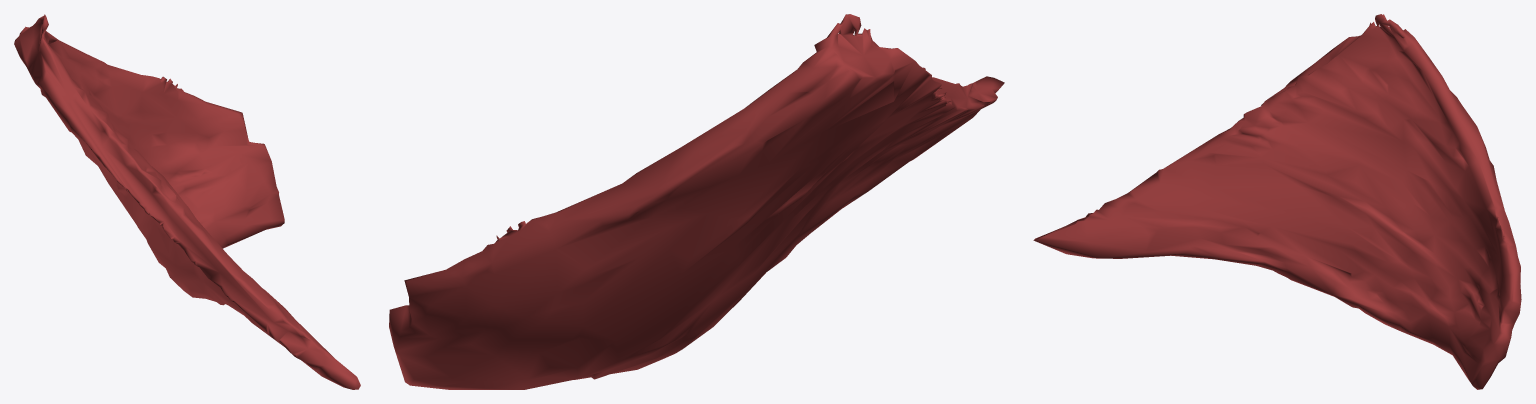
The model's file is iliococcygeus-muscle-r.glb.
The picture shows the model from 3 angles, left to right: view 1: azimuth 30°, elevation 25°; view 2: azimuth 150°, elevation 25°; view 3: azimuth 270°, elevation 25°; orthographic projection. The views are drawn at different scales.
Parts seen in each view (by area): view 1: Iliococcygeus muscle.r; view 2: Iliococcygeus muscle.r; view 3: Iliococcygeus muscle.r.
Part boxes in pixels (box(x1,y1,x2,y2)): Iliococcygeus muscle.r: box(14, 14, 360, 389); Iliococcygeus muscle.r: box(389, 14, 1004, 389); Iliococcygeus muscle.r: box(1033, 14, 1521, 389).
Size of the model in its own units: 0.0459 by 0.0447 by 0.0757.
